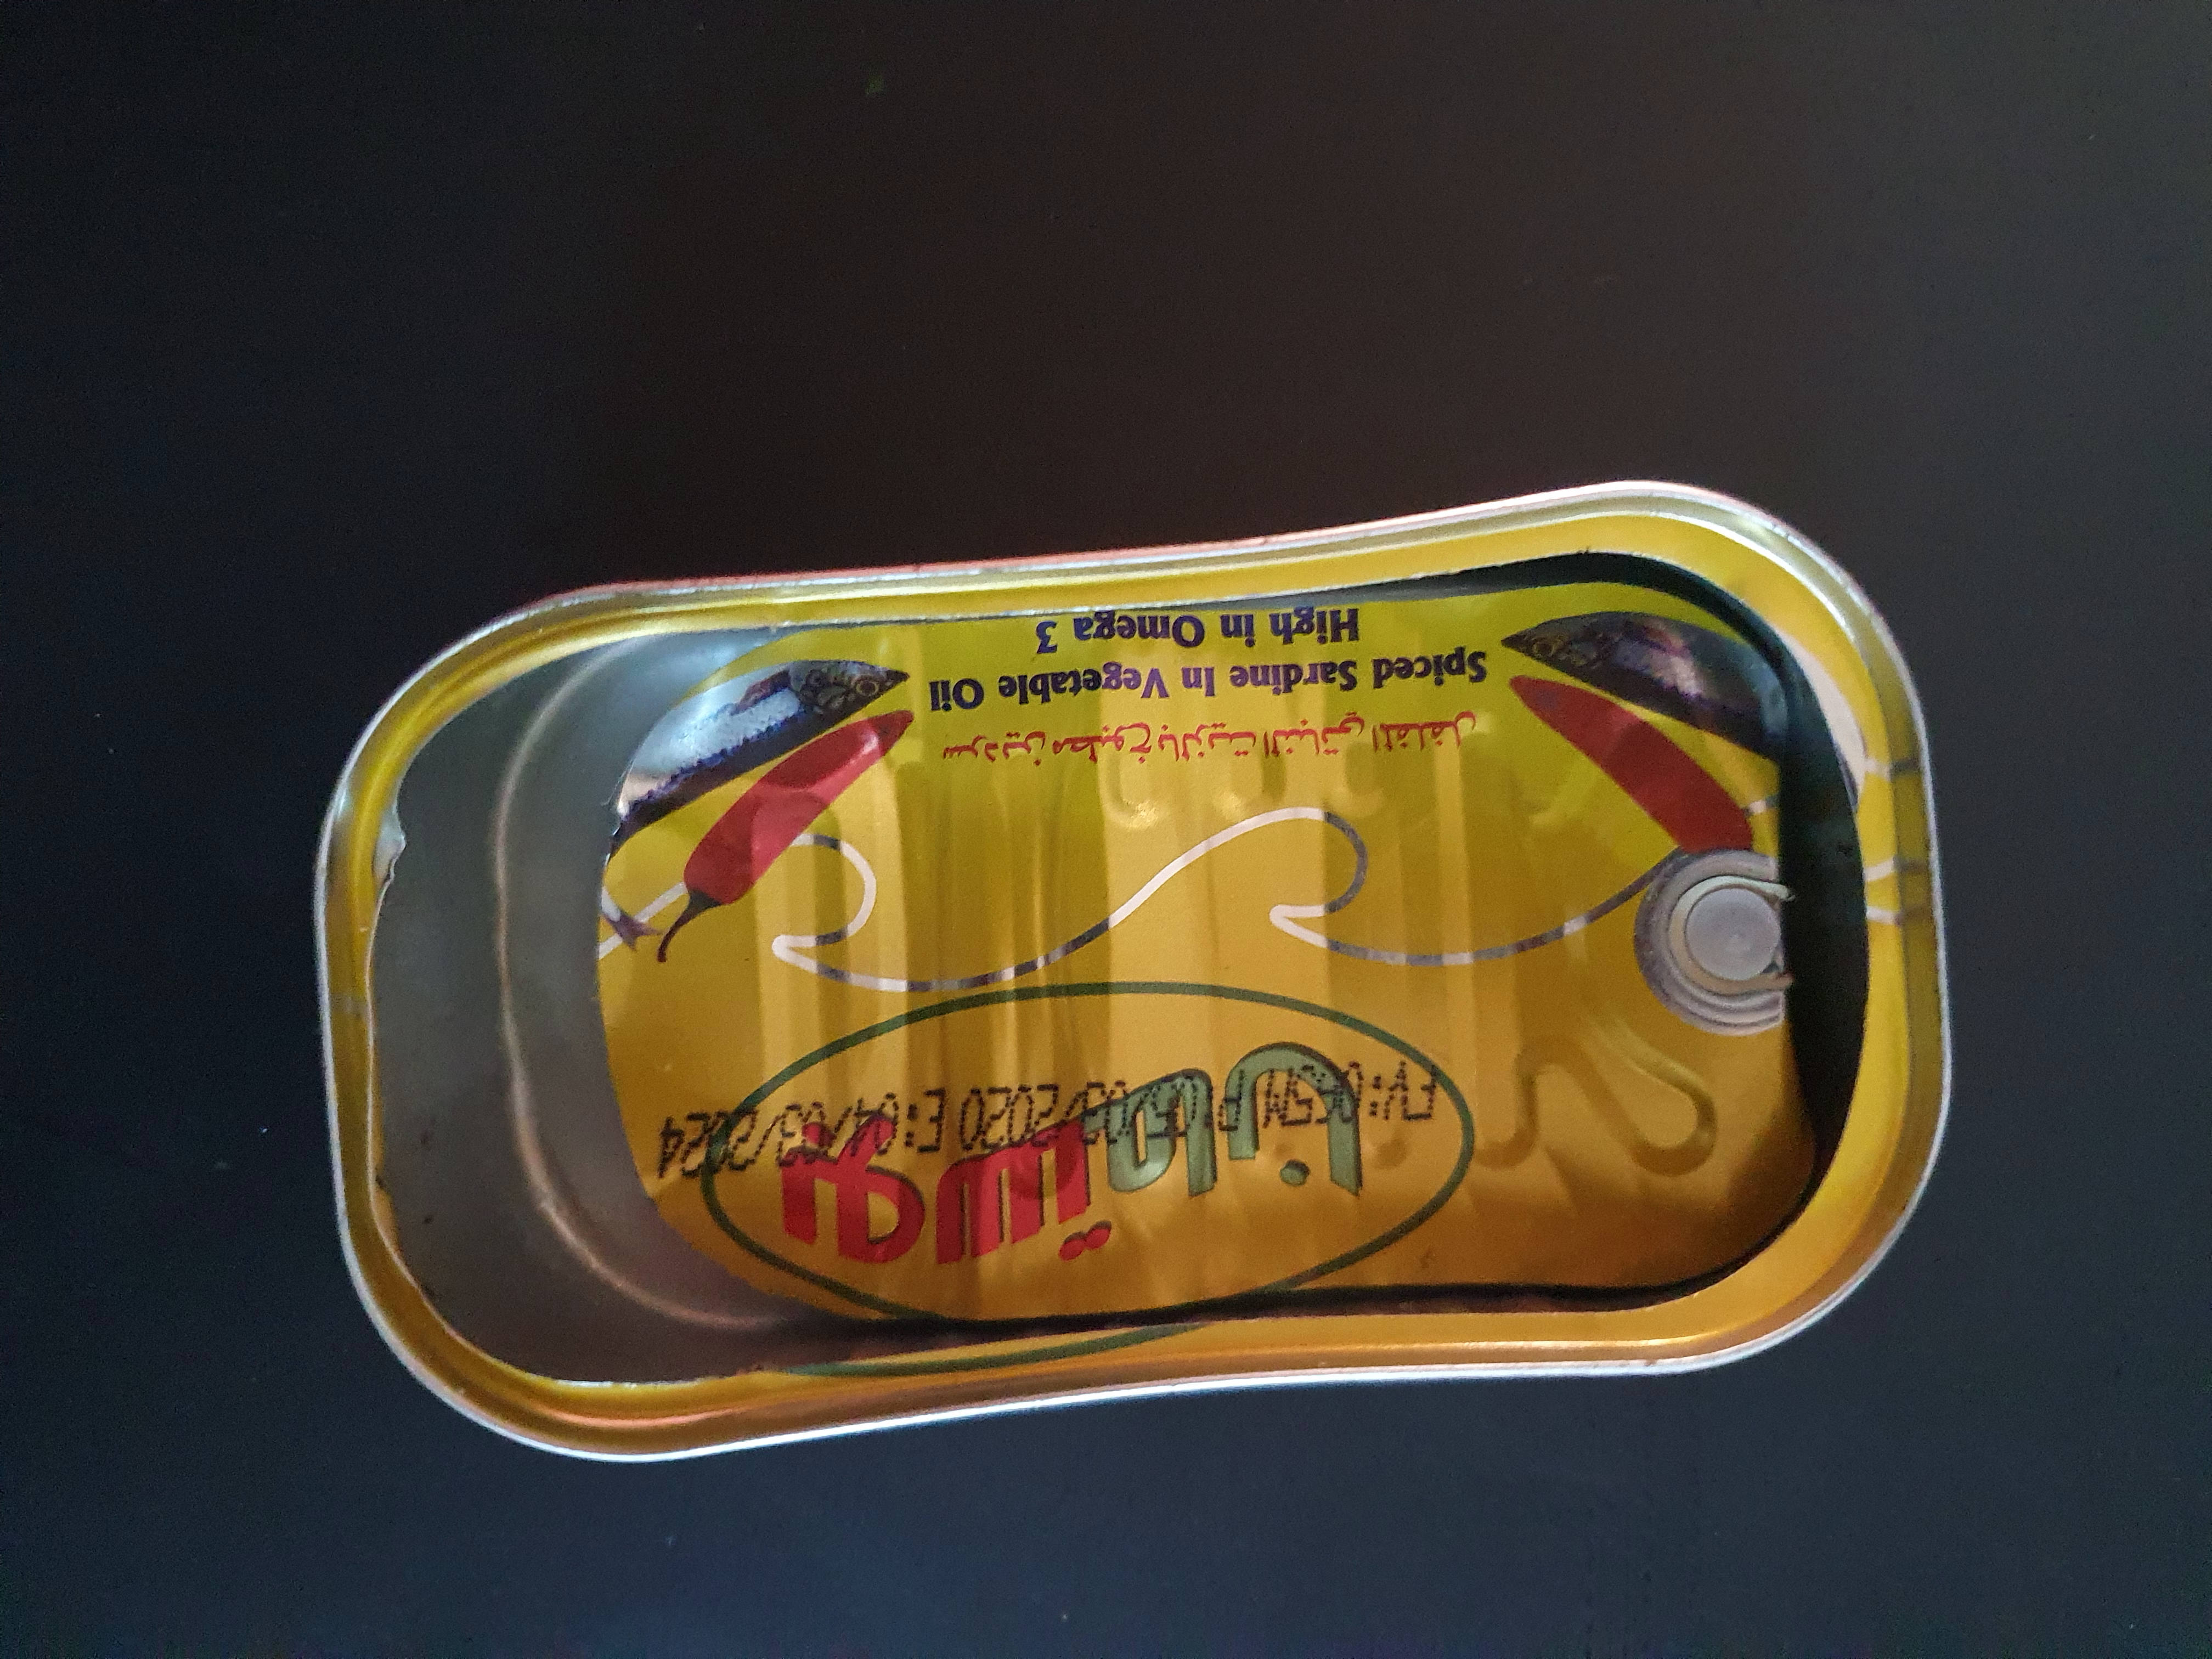metal: (270, 434, 1987, 1502)
